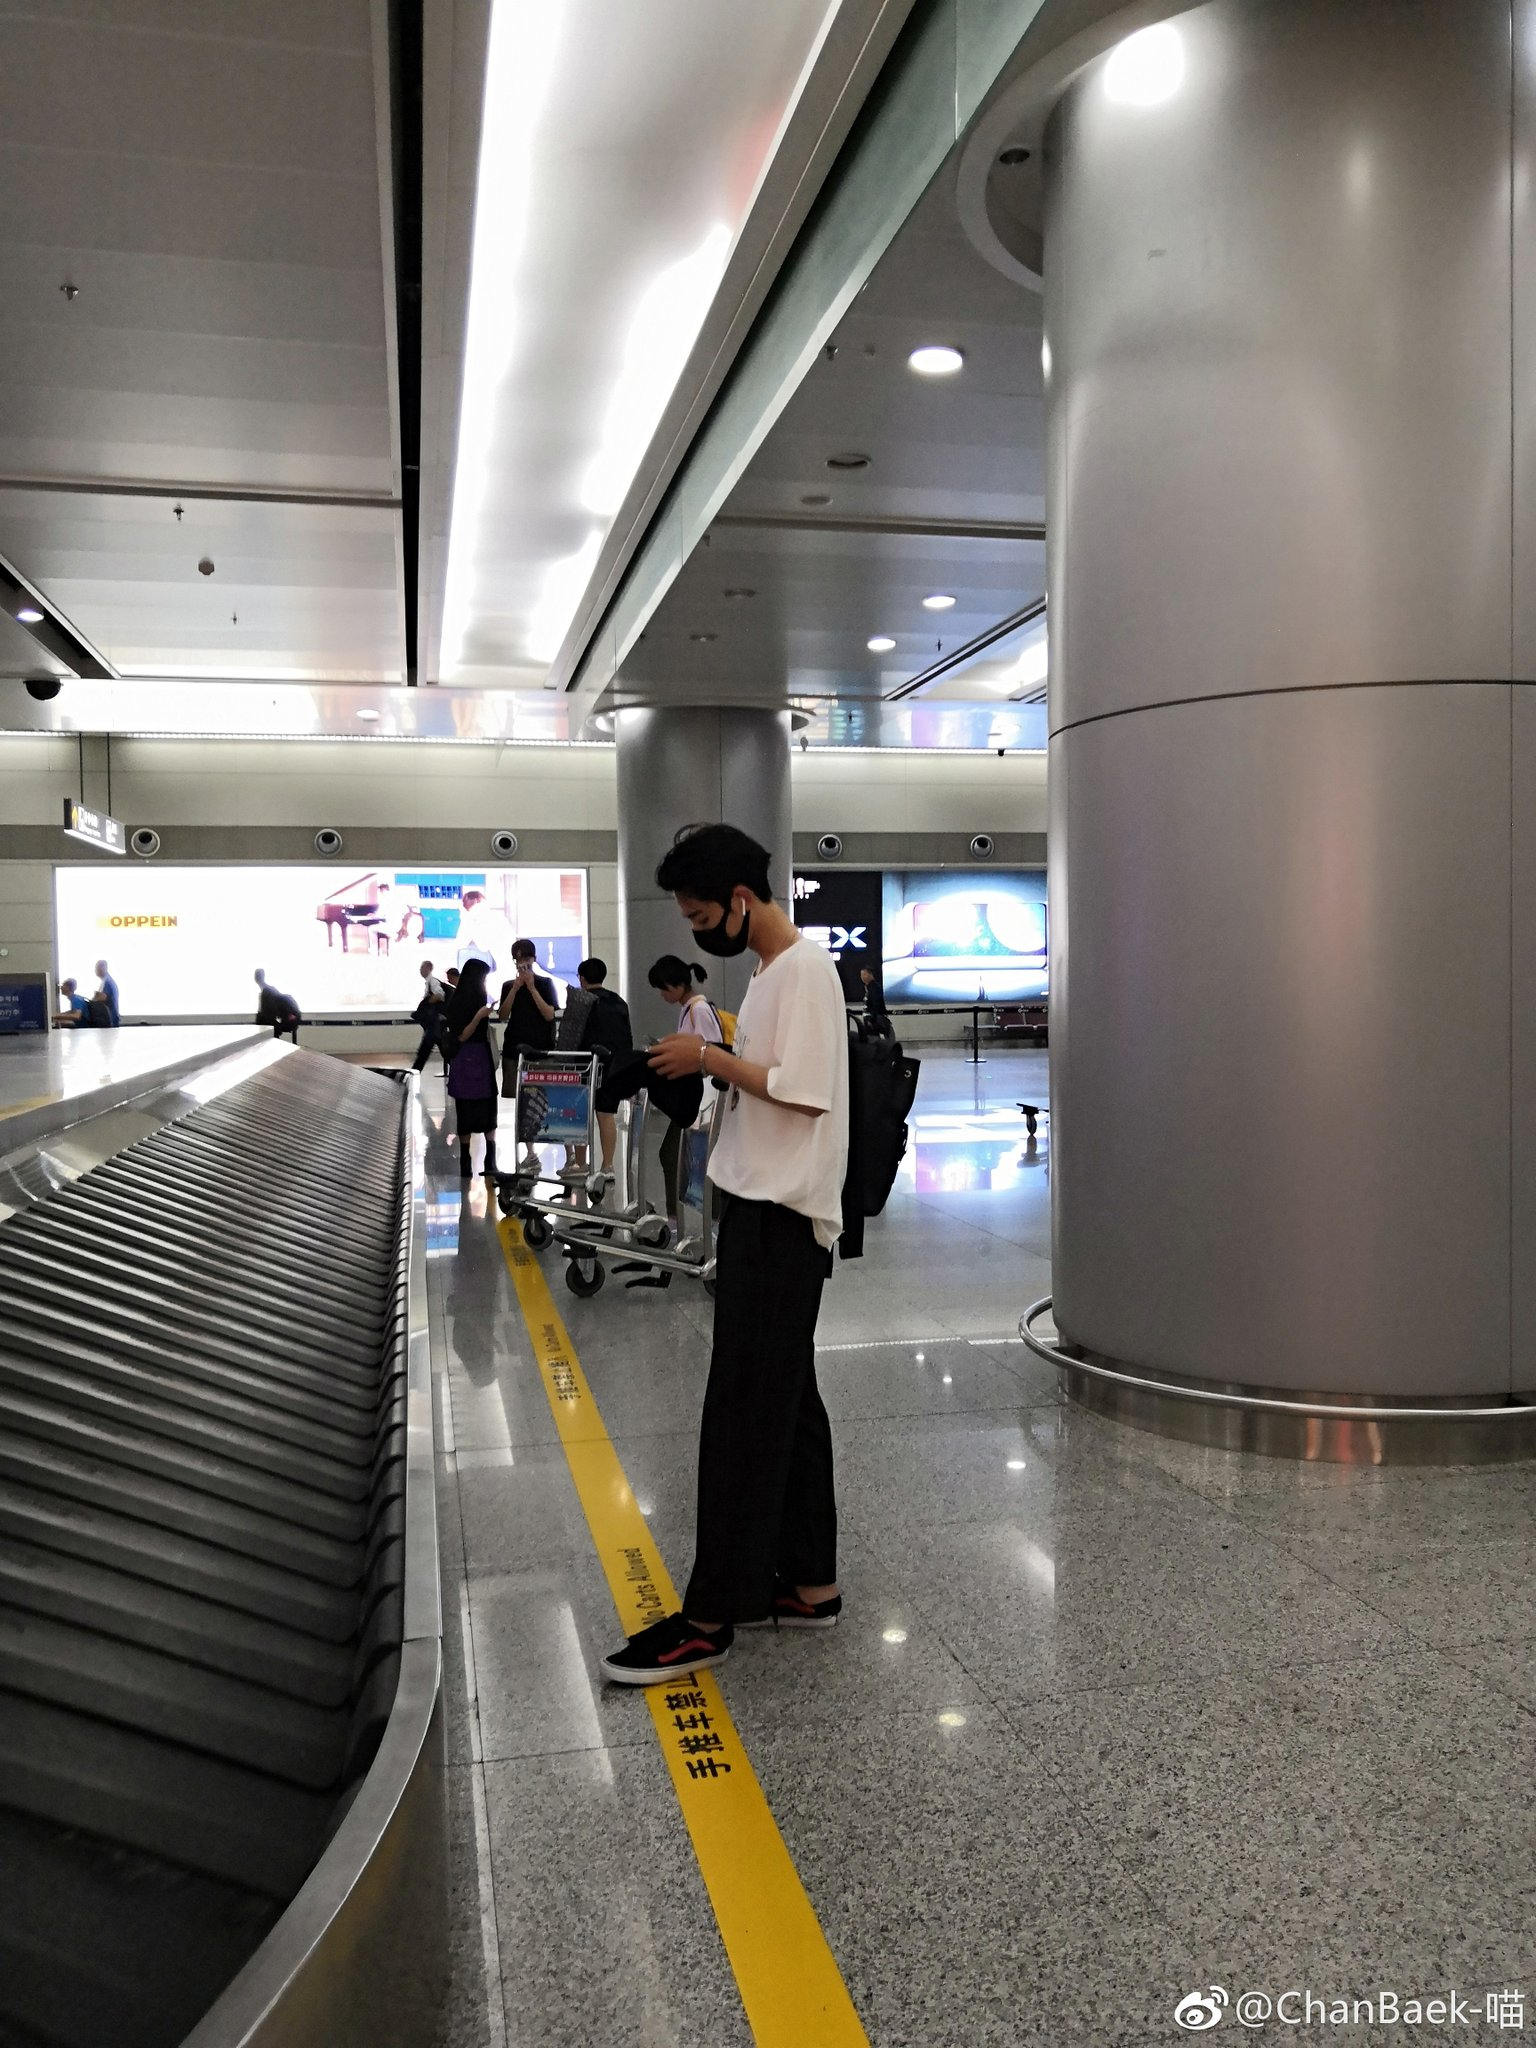backpack: (838, 1017, 913, 1223)
bag: (453, 1033, 491, 1095)
people: (607, 802, 853, 1695)
